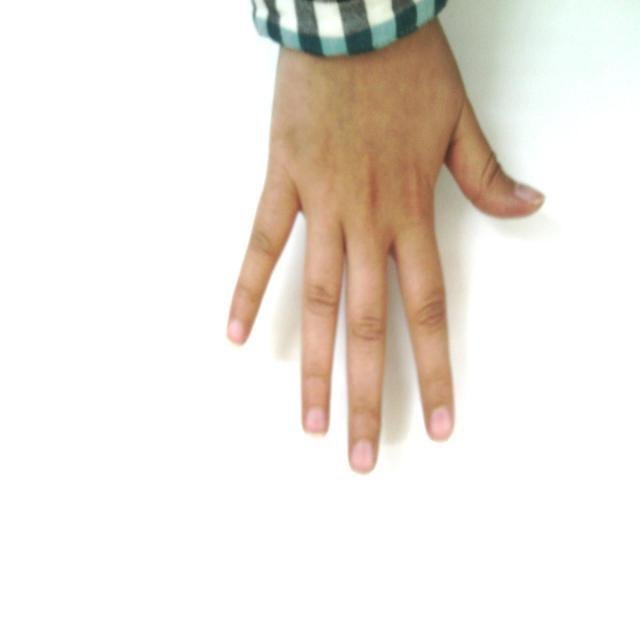Fingernail: (352, 441, 374, 471), (431, 408, 451, 440), (514, 182, 544, 203), (306, 407, 327, 436), (228, 320, 244, 341)
